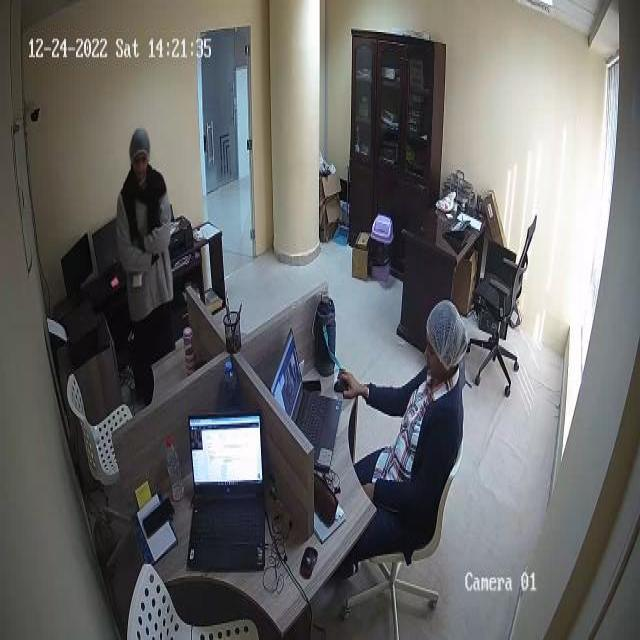hairnet: (428, 301, 468, 365), (129, 126, 151, 157)
